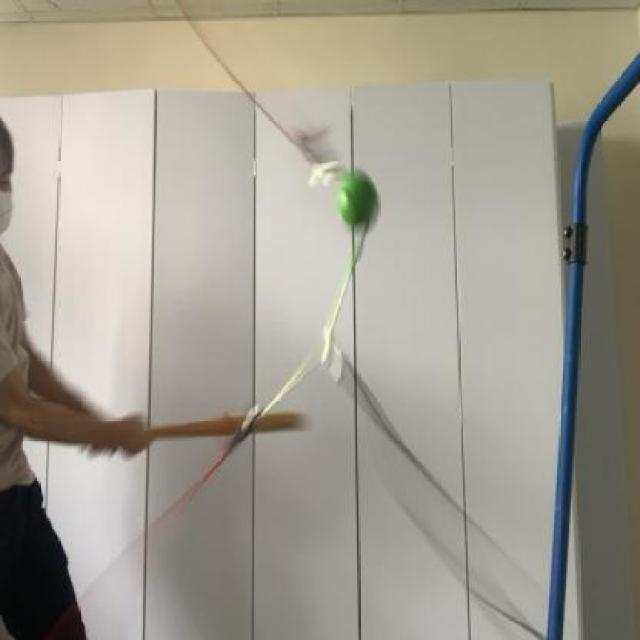baseball: (327, 157, 382, 246)
